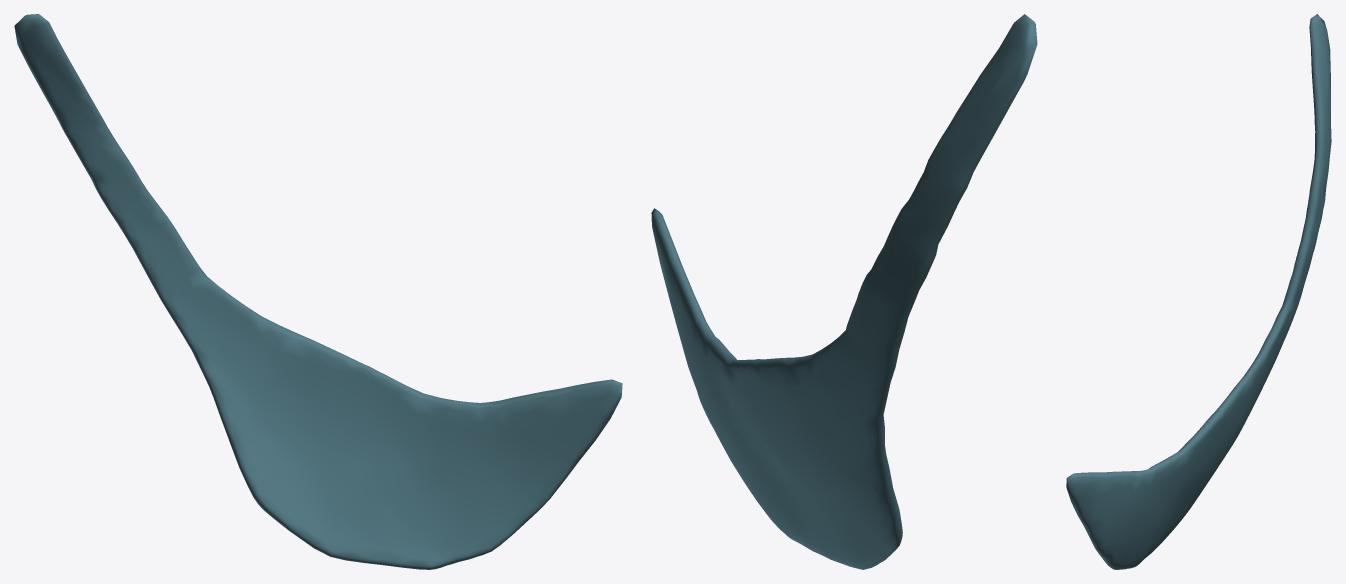
File: Latissimus_dorsi_apex_scapula_left.glb
The picture shows the model from 3 angles, left to right: view 1: azimuth 30°, elevation 25°; view 2: azimuth 150°, elevation 25°; view 3: azimuth 270°, elevation 25°; orthographic projection. The views are drawn at different scales.
Visible parts, largest first — view 1: Latissimus_dorsi_on_apex_of_the_scapula.l_Generated_Mesh_Fro; view 2: Latissimus_dorsi_on_apex_of_the_scapula.l_Generated_Mesh_Fro; view 3: Latissimus_dorsi_on_apex_of_the_scapula.l_Generated_Mesh_Fro.
Boxes of the visible parts, box(x1,y1,x2,y2) form: Latissimus_dorsi_on_apex_of_the_scapula.l_Generated_Mesh_Fro: box(14, 14, 622, 569); Latissimus_dorsi_on_apex_of_the_scapula.l_Generated_Mesh_Fro: box(651, 14, 1037, 569); Latissimus_dorsi_on_apex_of_the_scapula.l_Generated_Mesh_Fro: box(1066, 14, 1331, 569).
Bounding box in the file's own units: 0.022 × 0.0255 × 0.014.
